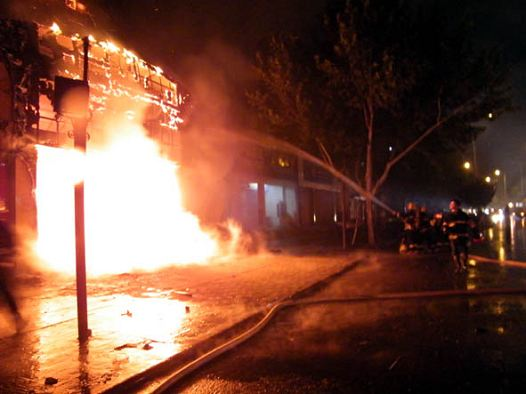fire: (36, 85, 237, 274)
